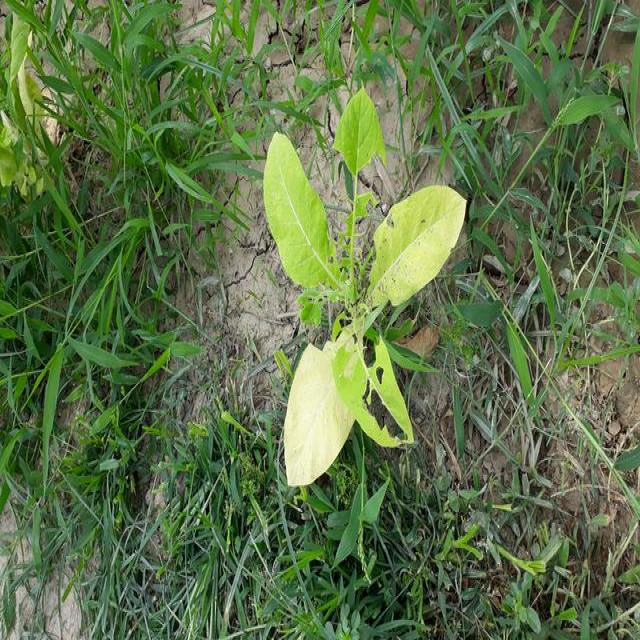crop: (266, 85, 468, 483)
